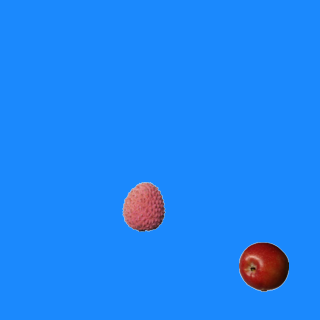Apple Braeburn: (238, 241, 288, 291)
Lychee: (118, 181, 168, 231)
